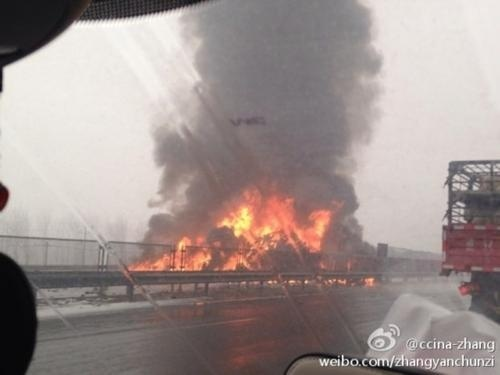fire: (131, 193, 343, 274)
